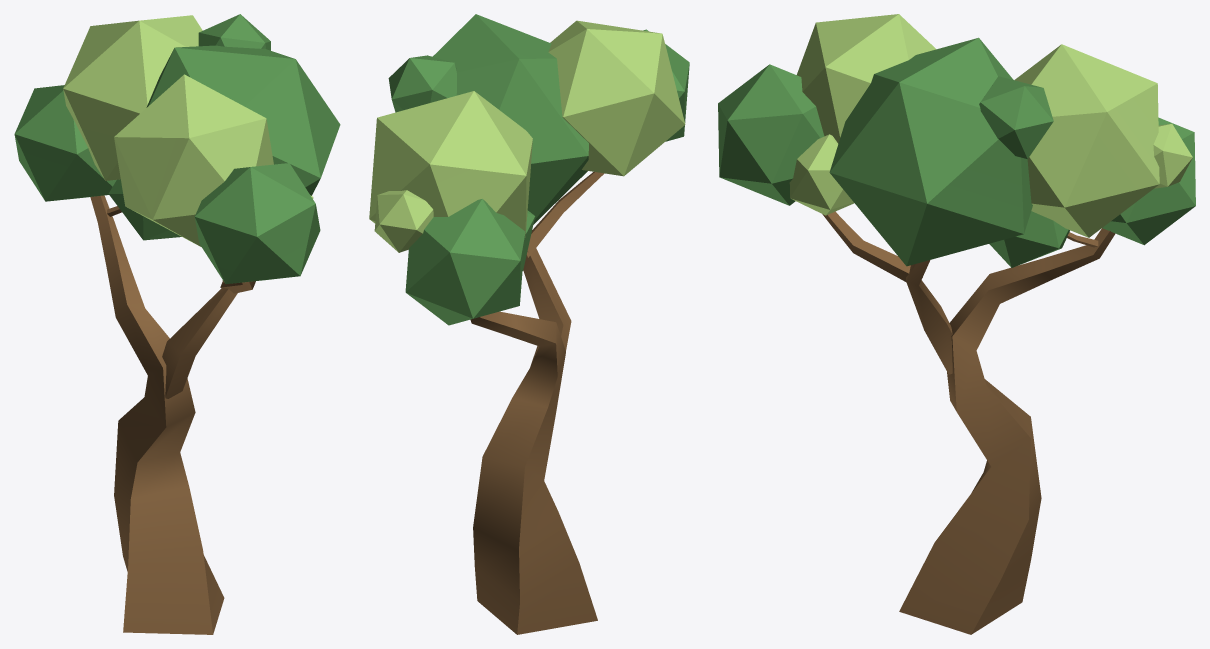
The model's file is Arbre_03.fbx.
3 views of the same model, side by side, from view 1: azimuth 30°, elevation 25°; view 2: azimuth 150°, elevation 25°; view 3: azimuth 270°, elevation 25° (orthographic). The views are drawn at different scales.
Visible parts, largest first — view 1: Arbre_03; view 2: Arbre_03; view 3: Arbre_03.
Part boxes in pixels (x1=…): Arbre_03: x1=14, y1=14, x2=340, y2=634; Arbre_03: x1=369, y1=14, x2=689, y2=634; Arbre_03: x1=718, y1=14, x2=1195, y2=634.
Bounding box in the file's own units: 232 × 527 × 392.
Materials: 1 (1 with a texture image).
